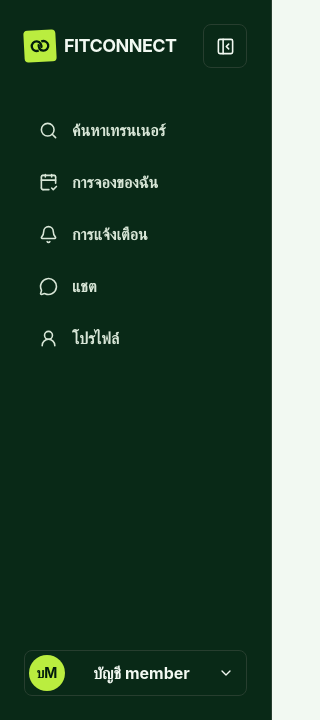
it: SiteHeader › collapses and restores the authenticated side rail without removing its destinations
Step 1. Click the button named "ย่อแถบเมนู" → (225, 46), box x1=203 y1=24 x2=247 y2=68
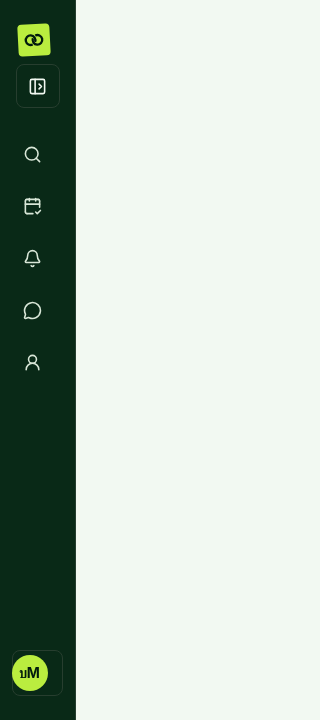
Expected: the button named "ขยายแถบเมนู" is collapsed
Step 2. Click the button named "ขยายแถบเมนู" → (38, 86), box x1=16 y1=64 x2=60 y2=108
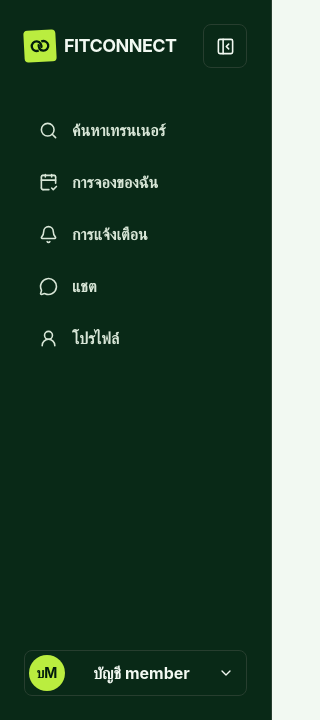
Expected: the button named "ย่อแถบเมนู" is expanded, x1=203 y1=24 x2=247 y2=68
